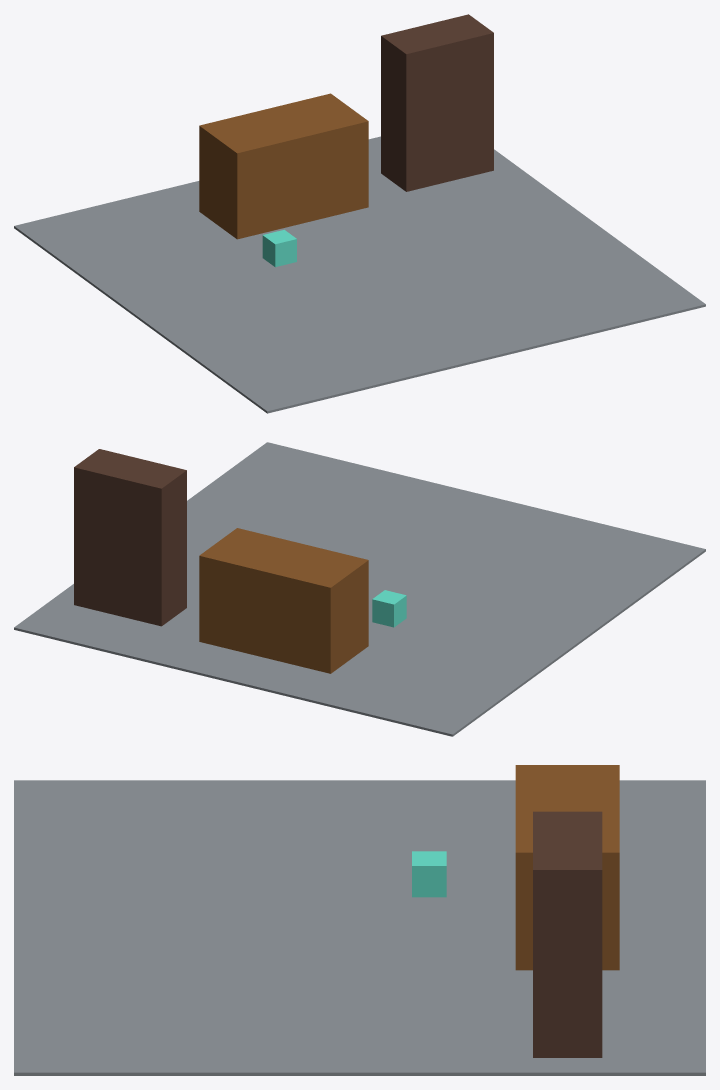
File: room.gltf
3 renders of one model, top to bottom at view 1: azimuth 30°, elevation 25°; view 2: azimuth 150°, elevation 25°; view 3: azimuth 270°, elevation 25°, orthographic. The views are drawn at different scales.
Parts seen in each view (by area): view 1: floor, desk, cabinet, box; view 2: floor, desk, cabinet, box; view 3: floor, cabinet, desk, box.
Boxes of the visible parts, x1,y1,x2,y2 form: floor: (14,136,705,413); desk: (199,93,368,239); cabinet: (381,14,493,191); box: (262,229,296,267); floor: (14,442,705,736); desk: (199,528,368,673); cabinet: (74,449,186,626); box: (372,590,406,627); floor: (14,780,705,1075); cabinet: (533,811,602,1057); desk: (515,765,619,970); box: (412,851,446,897).
Size of the model in its own units: 4 by 1.22 by 4.
